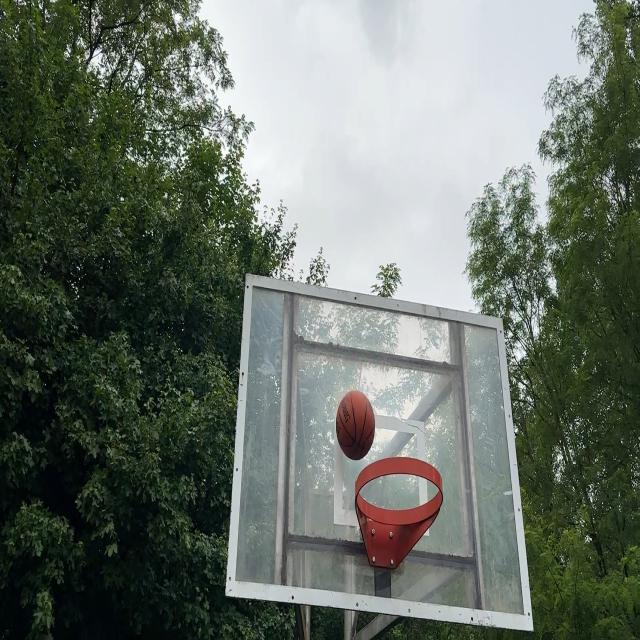Basketball: (336, 390, 376, 461)
